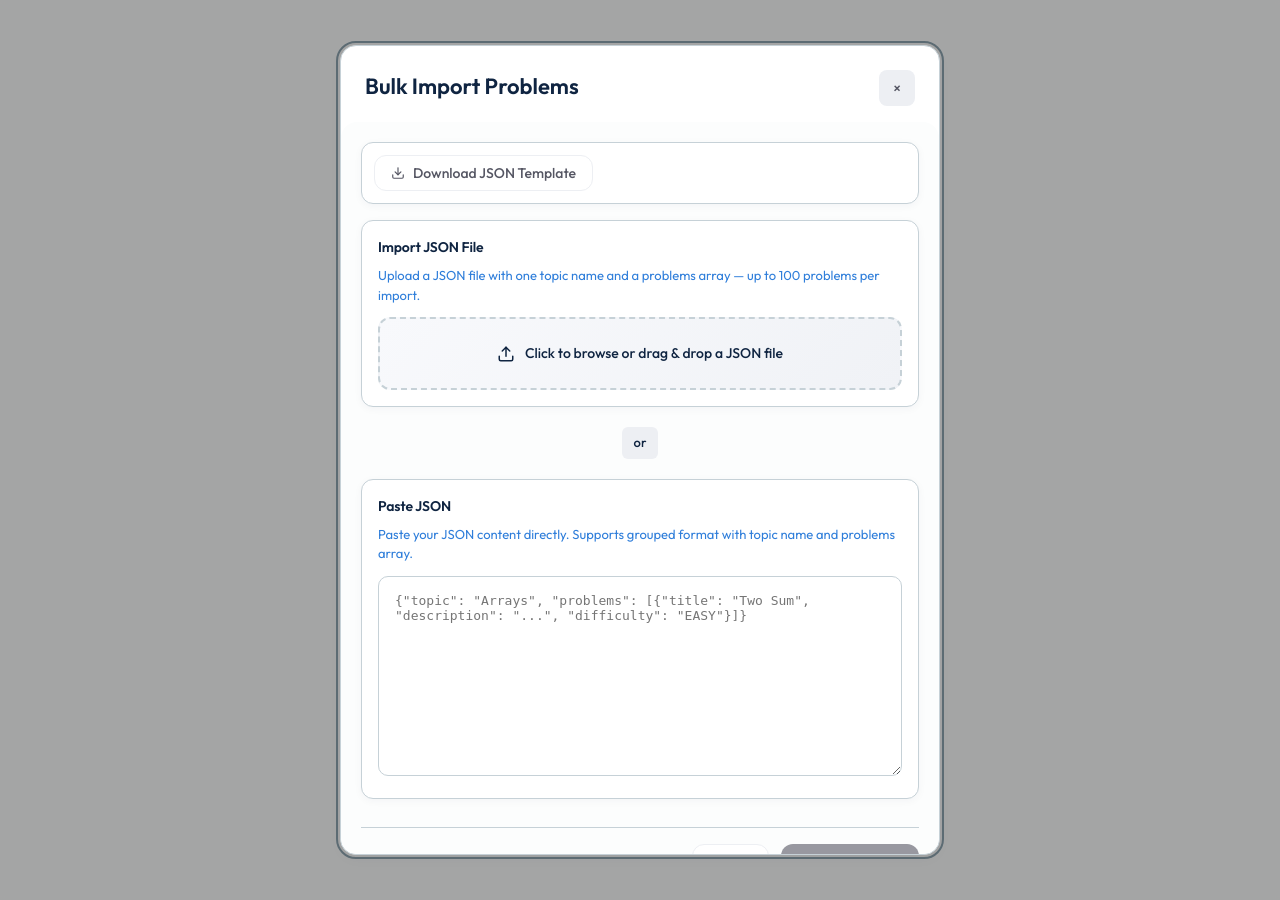
Scenario: an empty file is rejected before any request
Replace the text in the text box with id "trainer-import-text" with "[]" at (640, 676), box [378,576,902,776]
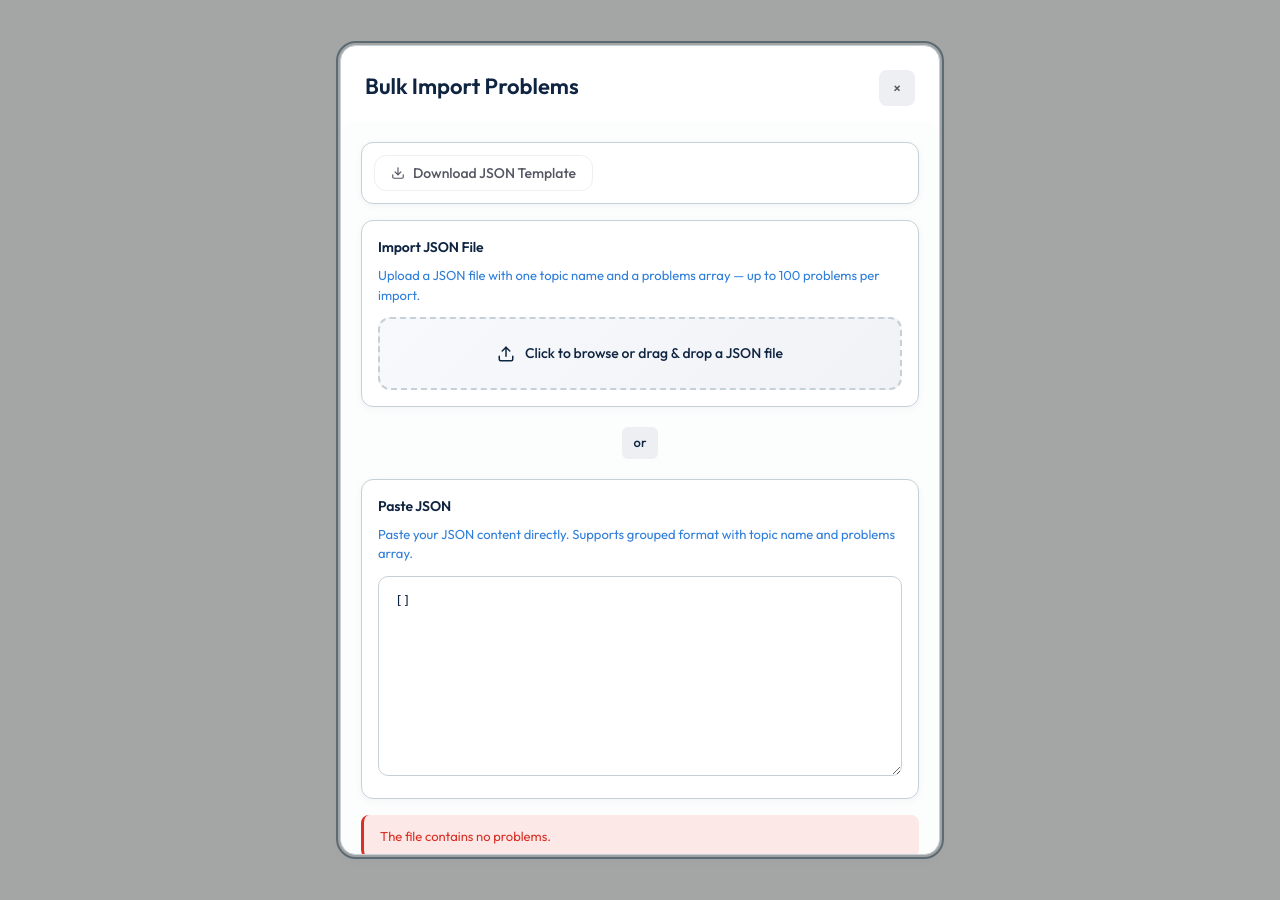
Expected: the text "The file contains no problems." is shown, [361,814,919,854]
